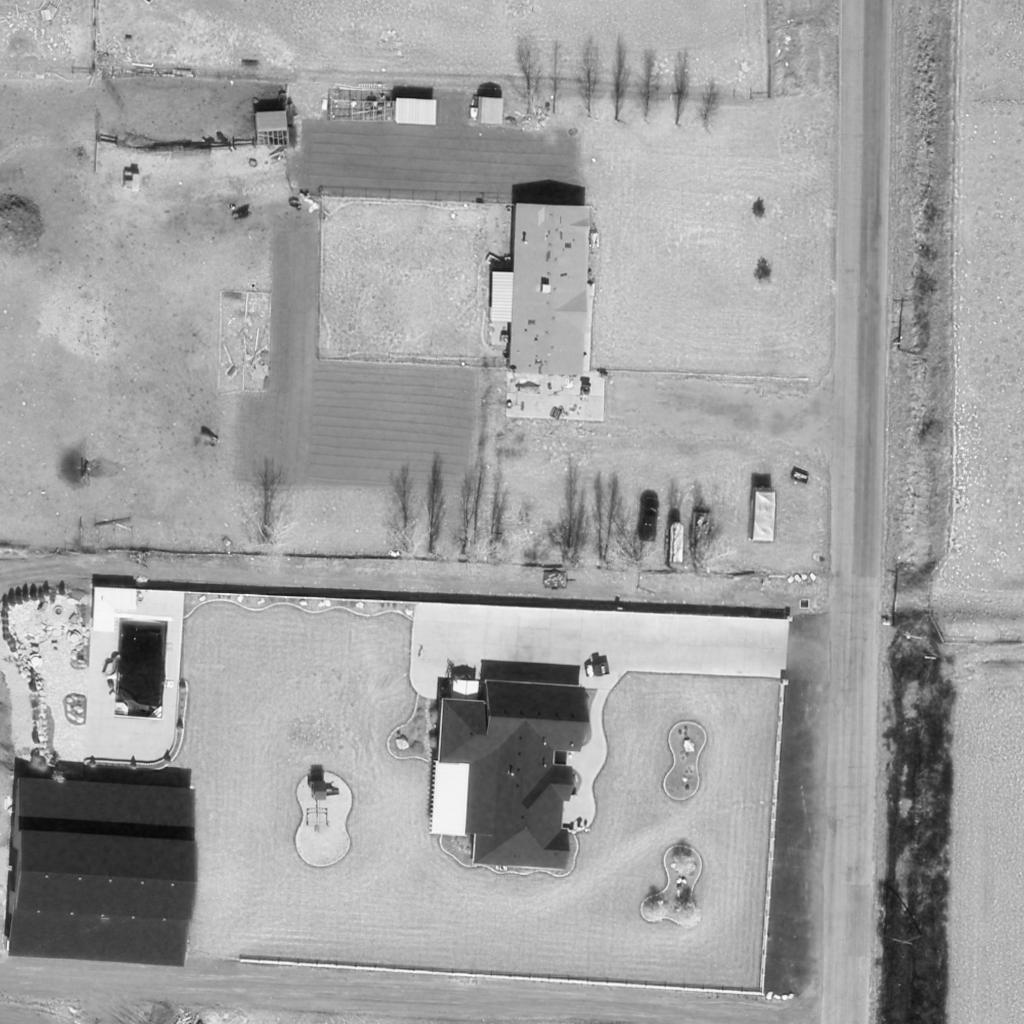vehicle: (749, 487, 775, 545), (637, 495, 661, 543)
